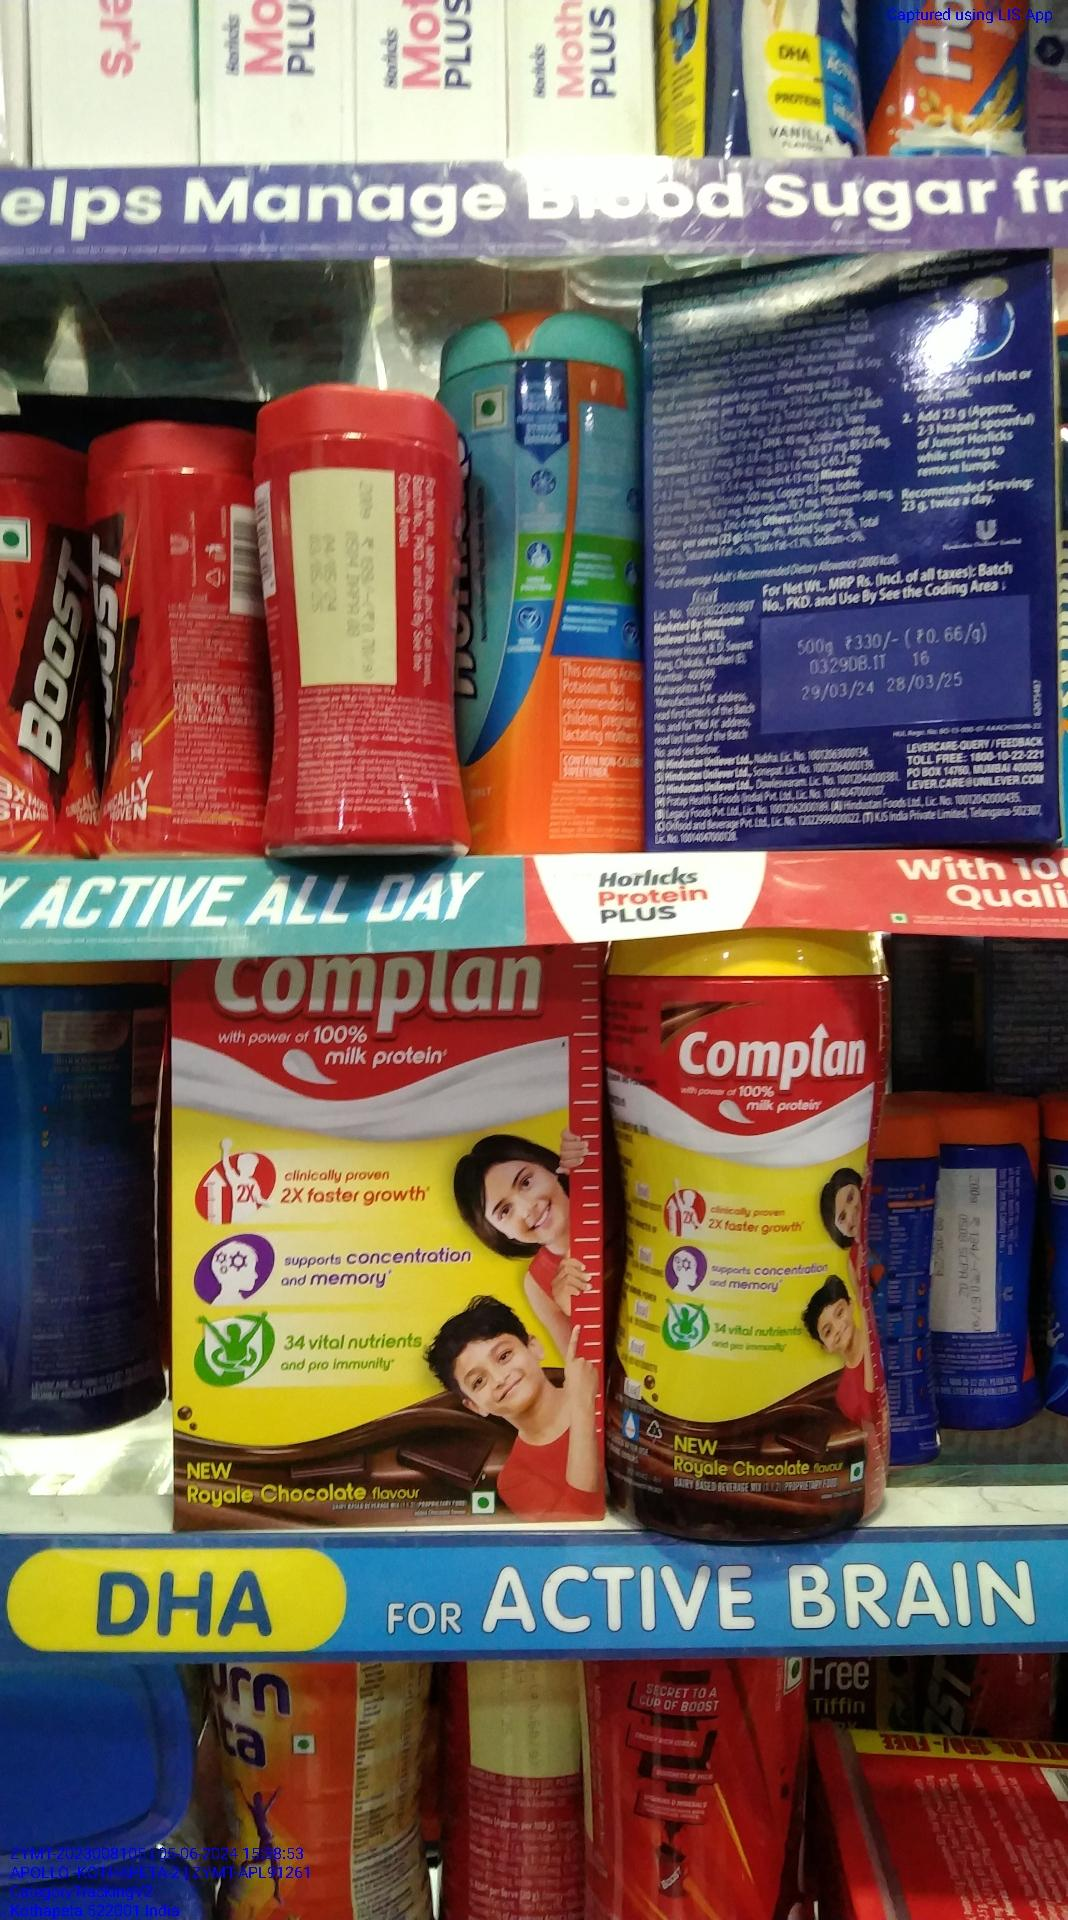COMPLAN_CHOCOLATE_500_GMS_JAR: (618, 930, 889, 1539)
COMPLAN_CHOCOLATE_500_GMS_PACK: (175, 959, 608, 1527)
